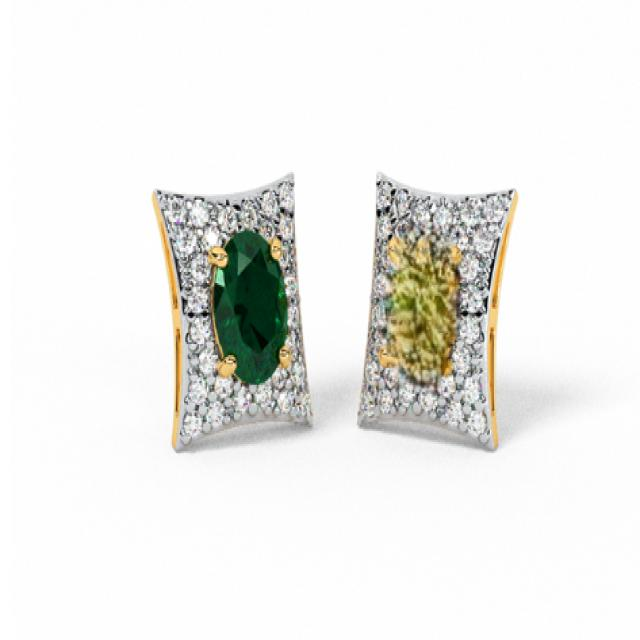missing gem: (384, 230, 459, 385)
